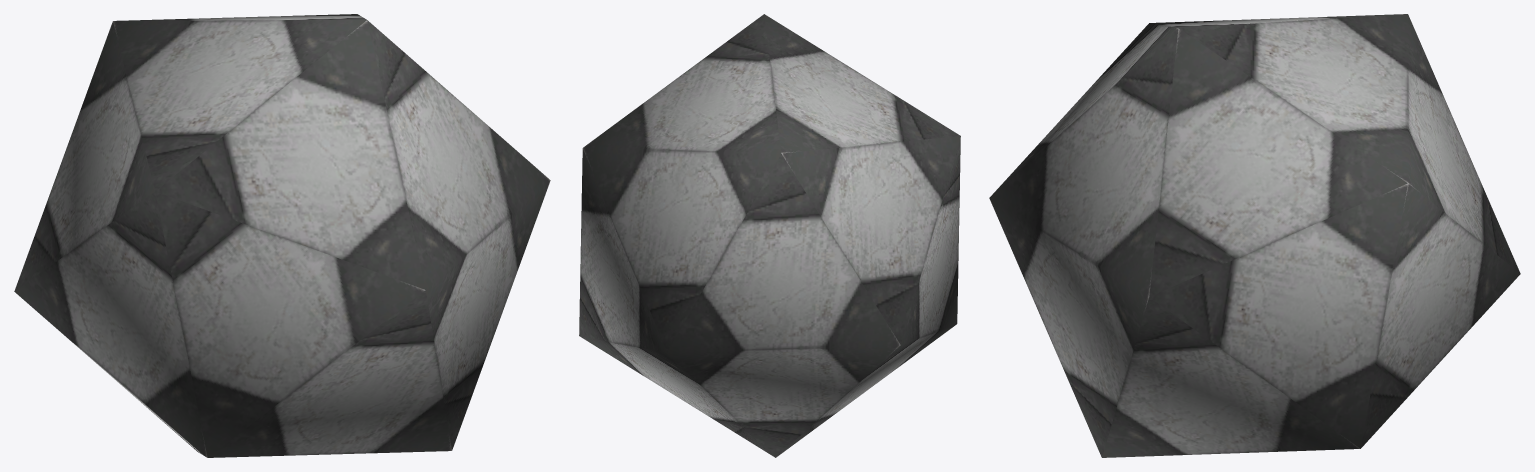
Rendered from soccer_ball_static_LOD1.obj.
3 views of the same model, side by side, from view 1: azimuth 30°, elevation 25°; view 2: azimuth 150°, elevation 25°; view 3: azimuth 270°, elevation 25° (orthographic). The views are drawn at different scales.
Visible parts, largest first — view 1: mtl_soccer_ball; view 2: mtl_soccer_ball; view 3: mtl_soccer_ball.
Part boxes in pixels (x1=…): mtl_soccer_ball: x1=14, y1=14, x2=550, y2=457; mtl_soccer_ball: x1=579, y1=14, x2=960, y2=457; mtl_soccer_ball: x1=989, y1=14, x2=1520, y2=457.
Bounding box in the file's own units: 28.76 × 29.88 × 31.32.
